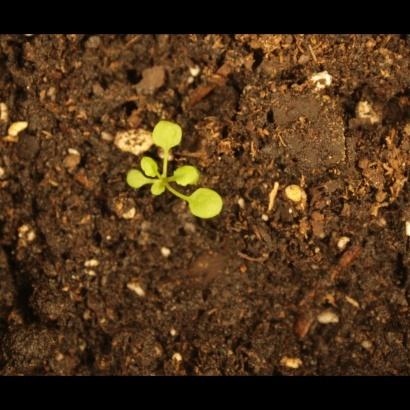leaf: (185, 185, 226, 223), (150, 116, 186, 152), (172, 161, 203, 190), (118, 166, 154, 190), (136, 153, 165, 180), (146, 178, 172, 205)
